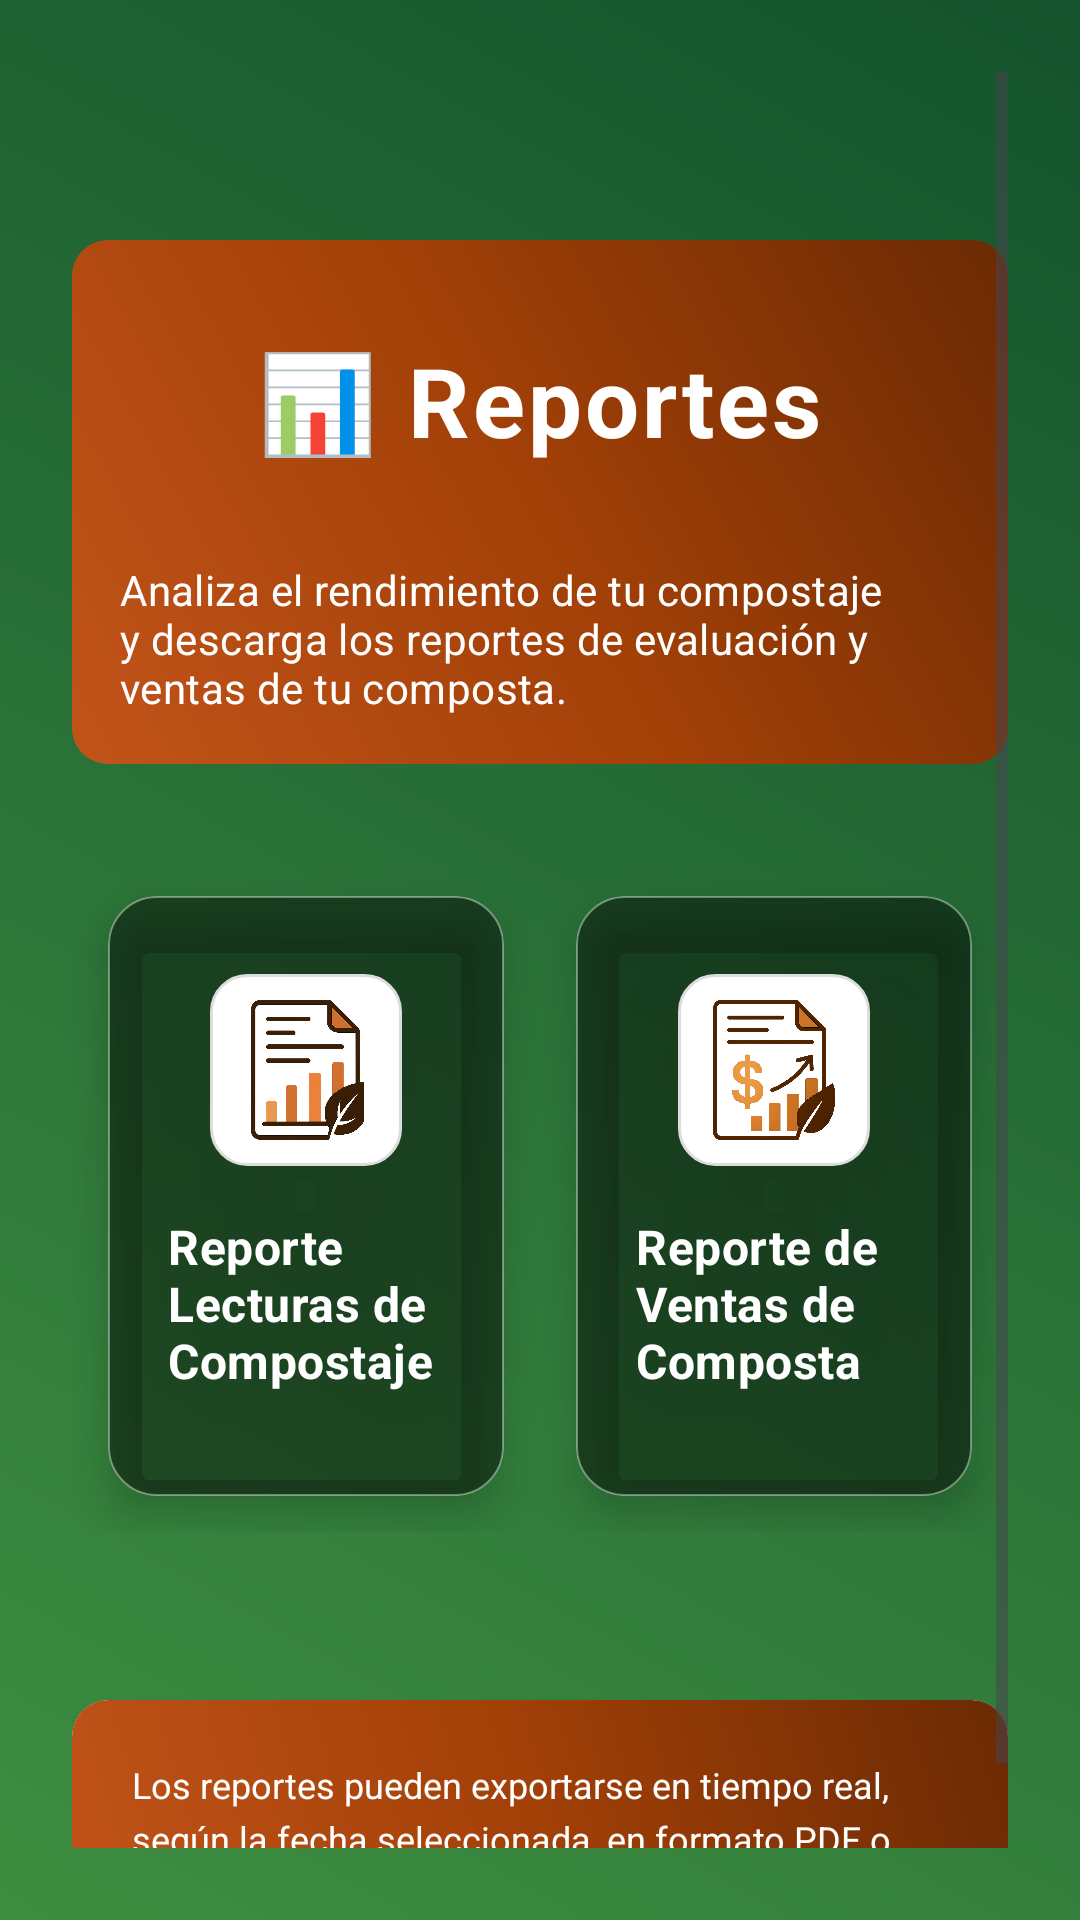

Where to tap for icons on this 1080 × 1920 app screen, as point (x, y):
reporte composta: point (306, 1070)
